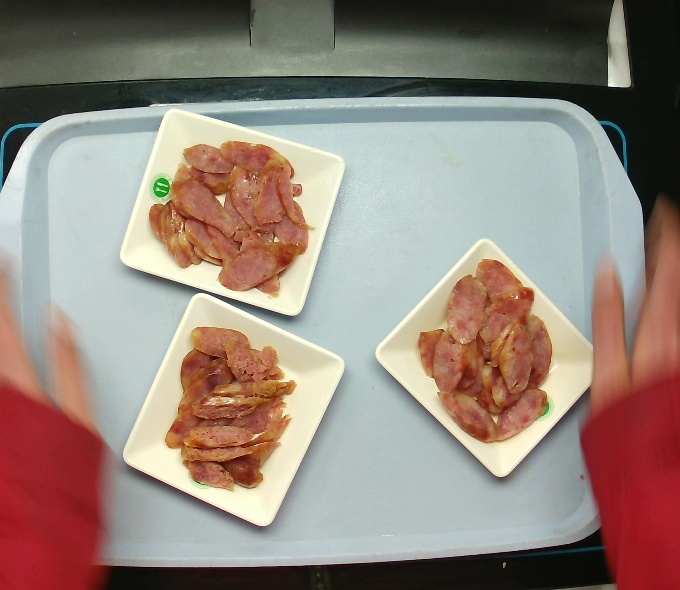wcq-QiePianXiangChang: (137, 126, 320, 300), (405, 248, 562, 448), (142, 315, 306, 504)
